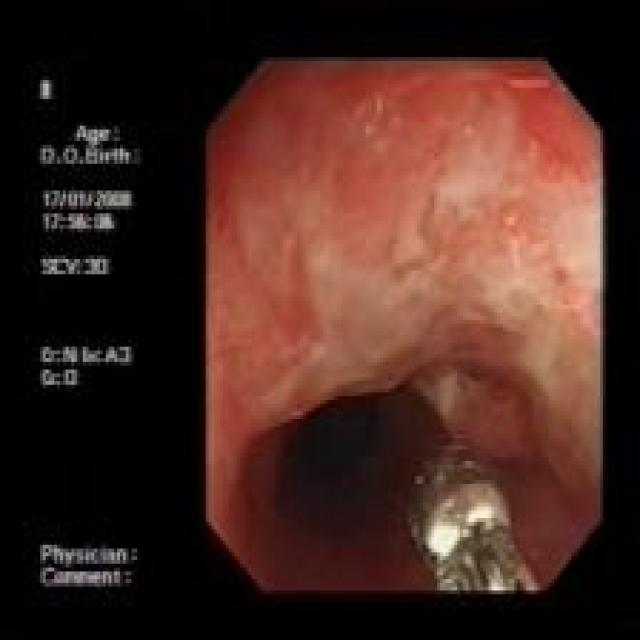color misalignment: (33, 77, 141, 591)
contrast: (273, 387, 433, 591)
instrument: (400, 440, 542, 592)
specularity: (424, 519, 457, 560), (464, 499, 496, 533)
